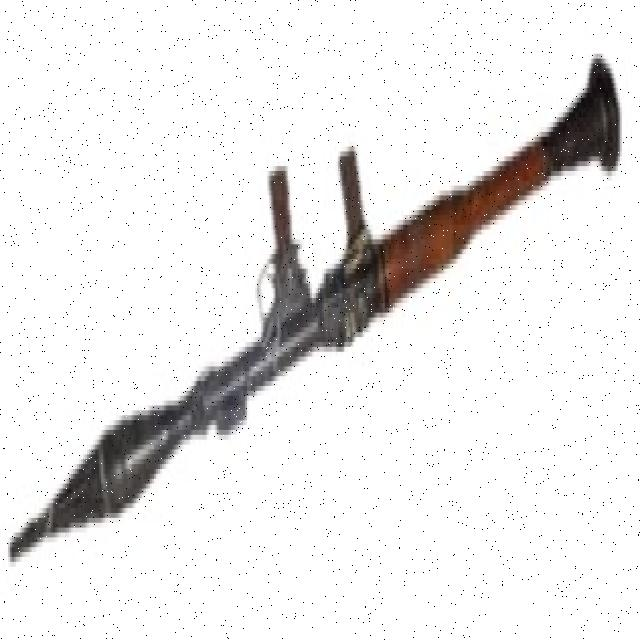bazooka: (6, 55, 627, 581)
